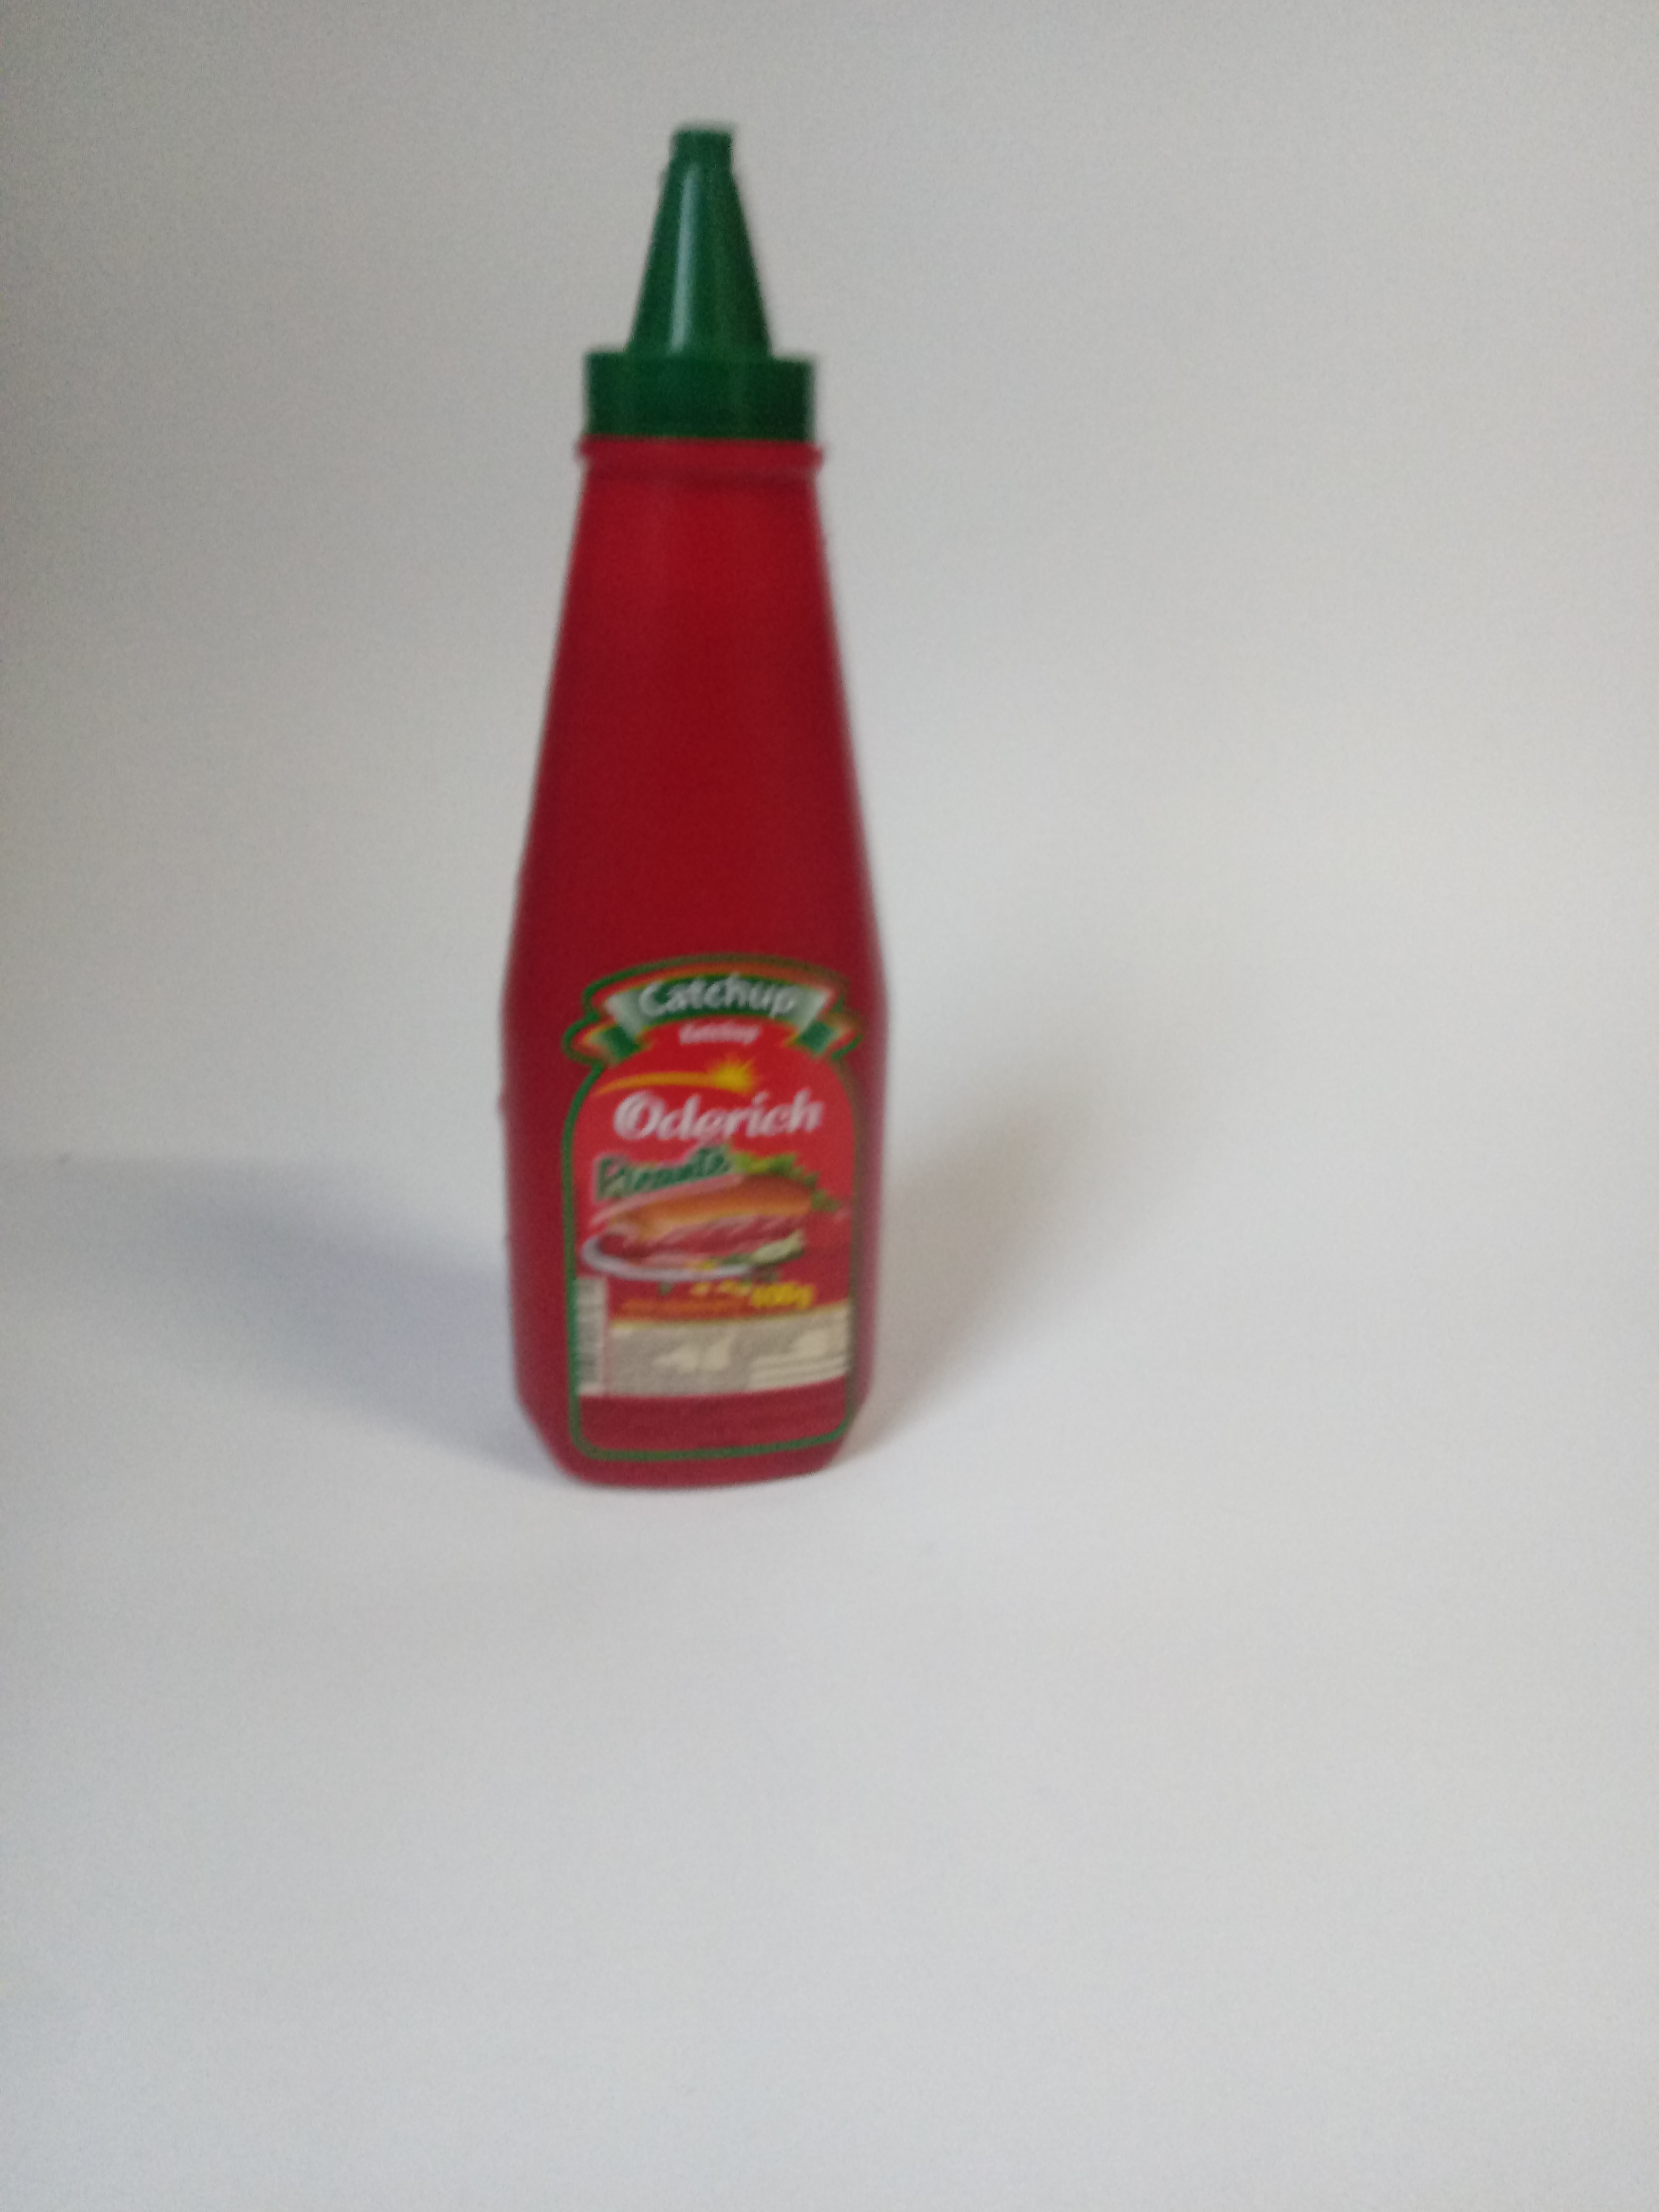catchup-oderich: (465, 115, 896, 1515), (469, 115, 890, 1515)
